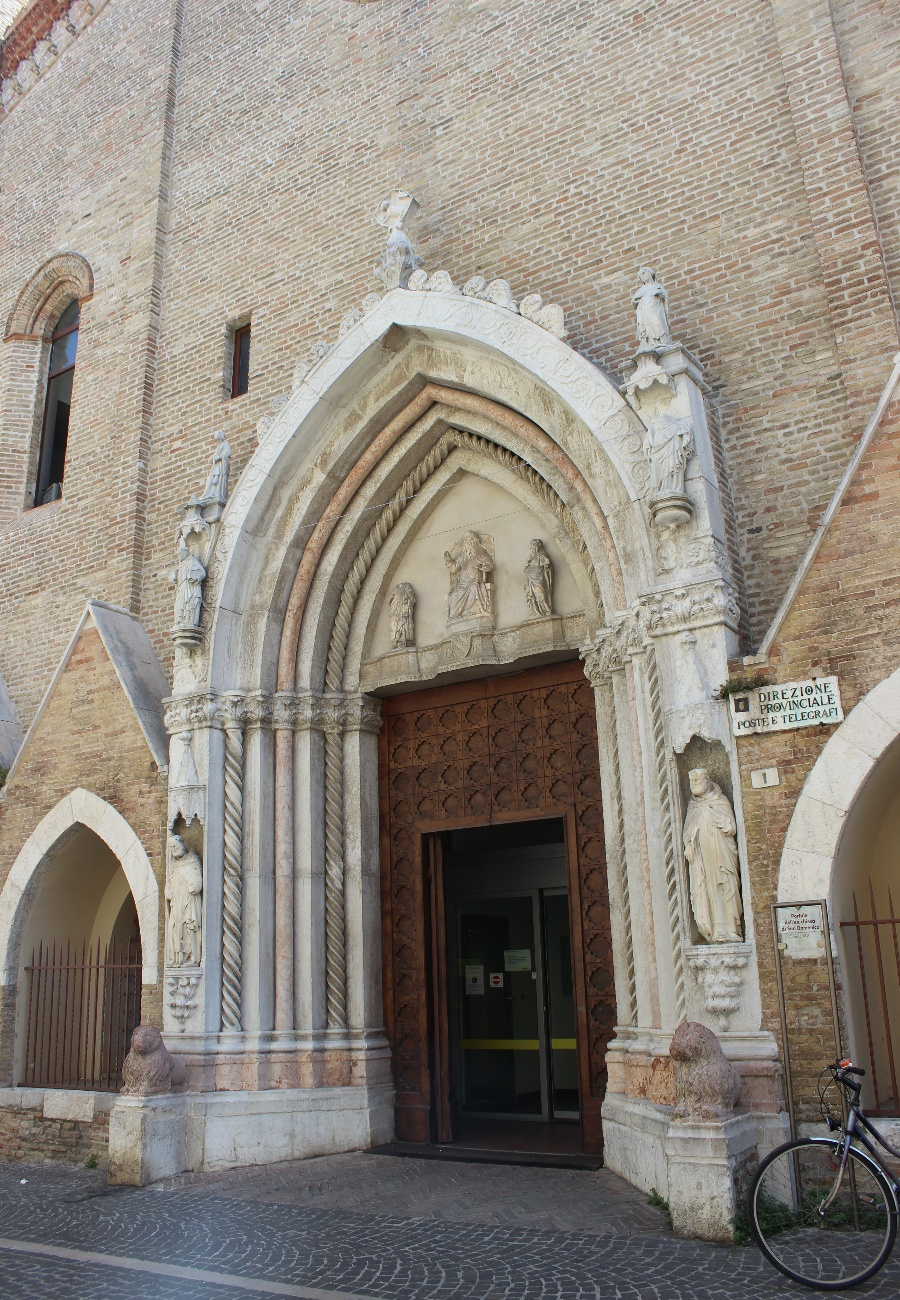Portale San Domenico: (123, 186, 793, 1123)
